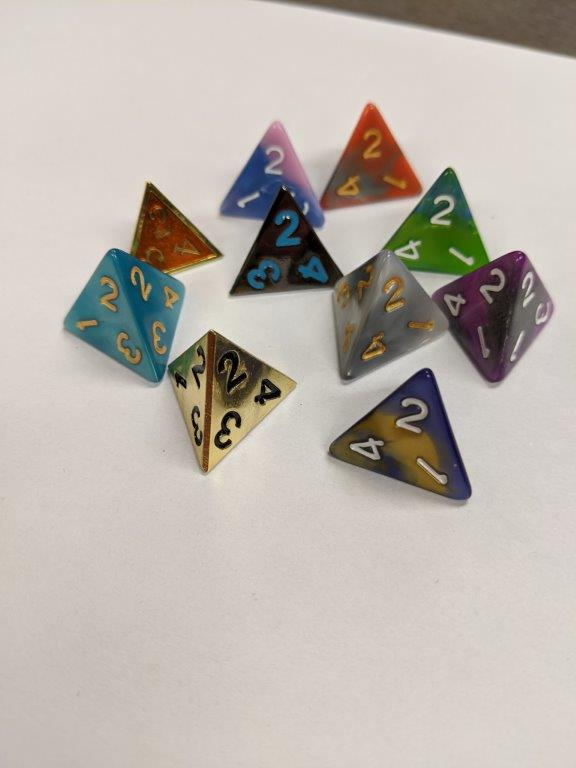d4-2: (165, 322, 302, 477), (327, 362, 473, 504), (52, 246, 188, 385), (438, 249, 558, 387), (329, 248, 449, 384), (221, 182, 349, 297), (380, 165, 492, 273), (222, 118, 324, 224), (320, 106, 420, 208), (124, 178, 223, 274)
